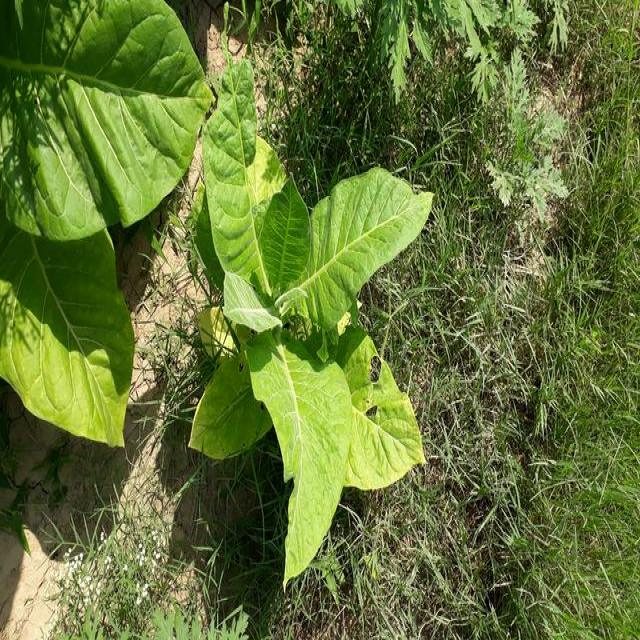crop: (213, 77, 414, 541), (6, 6, 178, 440)
